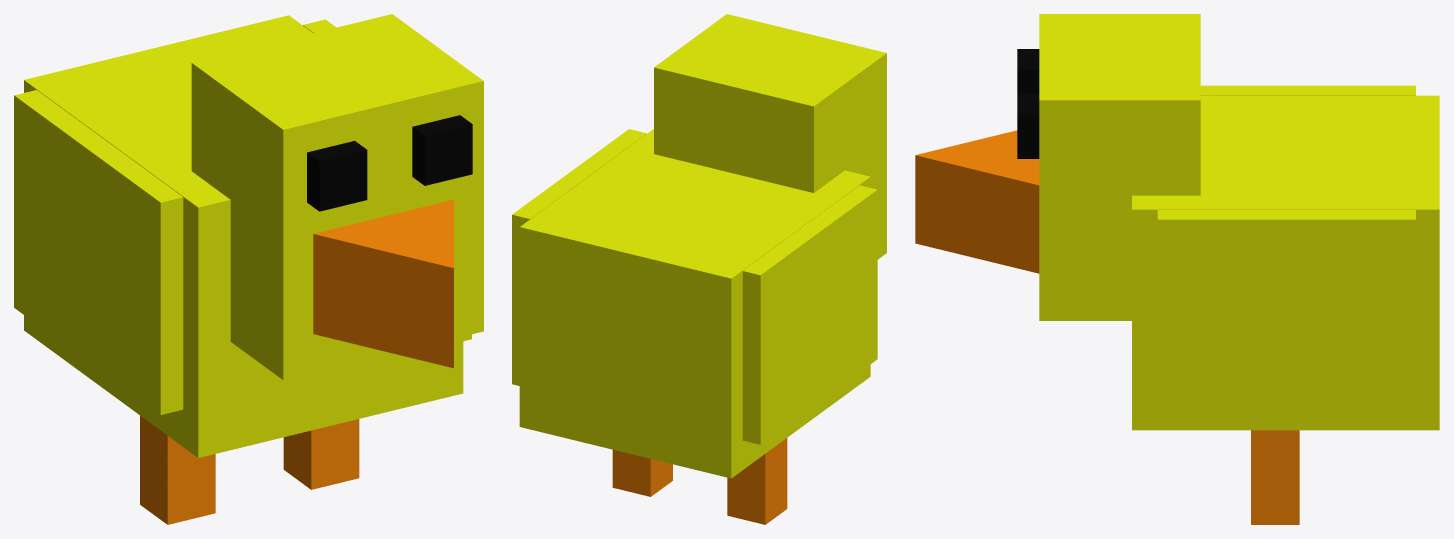
File: lowpolychick.glb
3 renders of one model, left to right at view 1: azimuth 30°, elevation 25°; view 2: azimuth 150°, elevation 25°; view 3: azimuth 270°, elevation 25°, orthographic. The views are drawn at different scales.
Parts seen in each view (by area): view 1: Head, Body, Wing Right, Leg Right, Leg Left; view 2: Body, Head, Wing Right, Leg Right, Wing Left, Leg Left; view 3: Head, Wing Left, Body, Leg Left, Wing Right.
Boxes of the visible parts, x1,y1,x2,y2 form: Head: [191, 14, 483, 380]; Body: [24, 15, 463, 457]; Wing Right: [14, 90, 183, 414]; Leg Right: [140, 415, 215, 524]; Leg Left: [283, 419, 359, 489]; Body: [519, 129, 870, 478]; Head: [654, 14, 886, 259]; Wing Right: [742, 185, 877, 444]; Leg Right: [727, 438, 787, 524]; Wing Left: [512, 129, 646, 385]; Leg Left: [612, 450, 672, 496]; Head: [915, 14, 1200, 320]; Wing Left: [1157, 210, 1415, 406]; Body: [1132, 95, 1439, 430]; Leg Left: [1251, 430, 1299, 524]; Wing Right: [1200, 85, 1415, 95].
Size of the model in its own units: 0.1951 by 0.29 by 0.3231.
